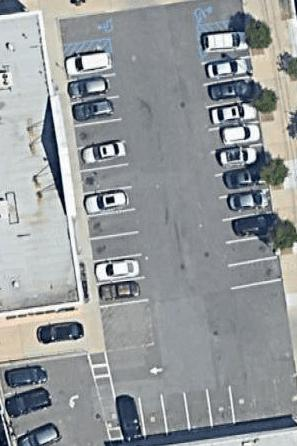parkingspot: (195, 29, 285, 292), (62, 49, 153, 309), (113, 383, 237, 444), (0, 359, 63, 446), (55, 9, 116, 47), (188, 0, 248, 29)
